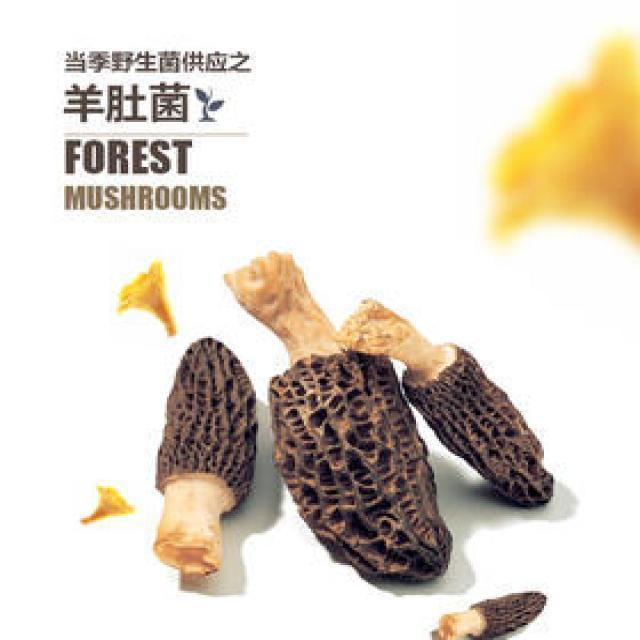Morchella esculenta: (223, 249, 454, 590), (332, 298, 555, 510), (150, 337, 258, 573), (438, 584, 547, 639)
